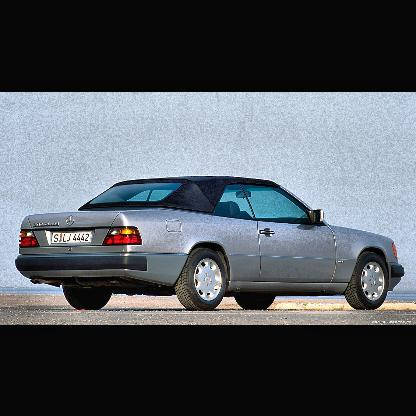Mercedes-Benz 300-Class Convertible 1993: (17, 176, 405, 312)
